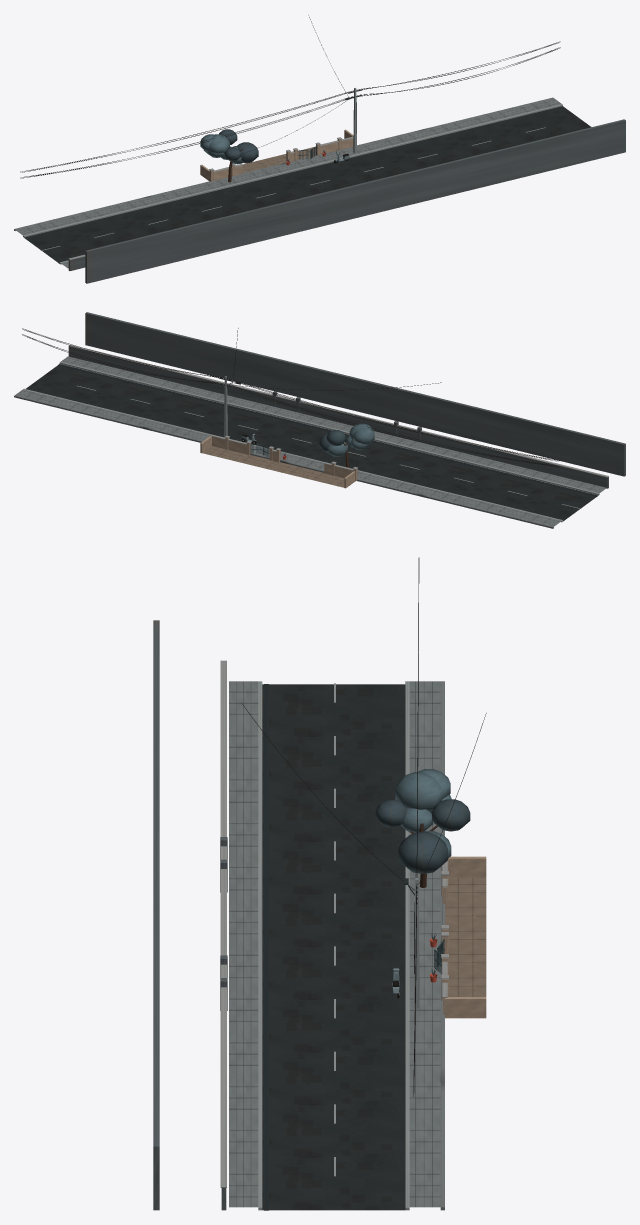
Rendered from street-front.glb.
The picture shows the model from 3 angles, top to bottom: view 1: azimuth 30°, elevation 25°; view 2: azimuth 150°, elevation 25°; view 3: azimuth 270°, elevation 25°; orthographic projection. The views are drawn at different scales.
Visible parts, largest first — view 1: street, wires; view 2: street, wires; view 3: street, wires.
Boxes of the visible parts, x1,y1,x2,y2 form: street: [14, 88, 625, 283]; wires: [20, 15, 560, 178]; street: [14, 312, 625, 528]; wires: [22, 328, 559, 467]; street: [153, 620, 486, 1210]; wires: [241, 557, 486, 1096].
Bounding box in the file's own units: 60.1 × 14.32 × 16.05.
1 material, 1 textured.
